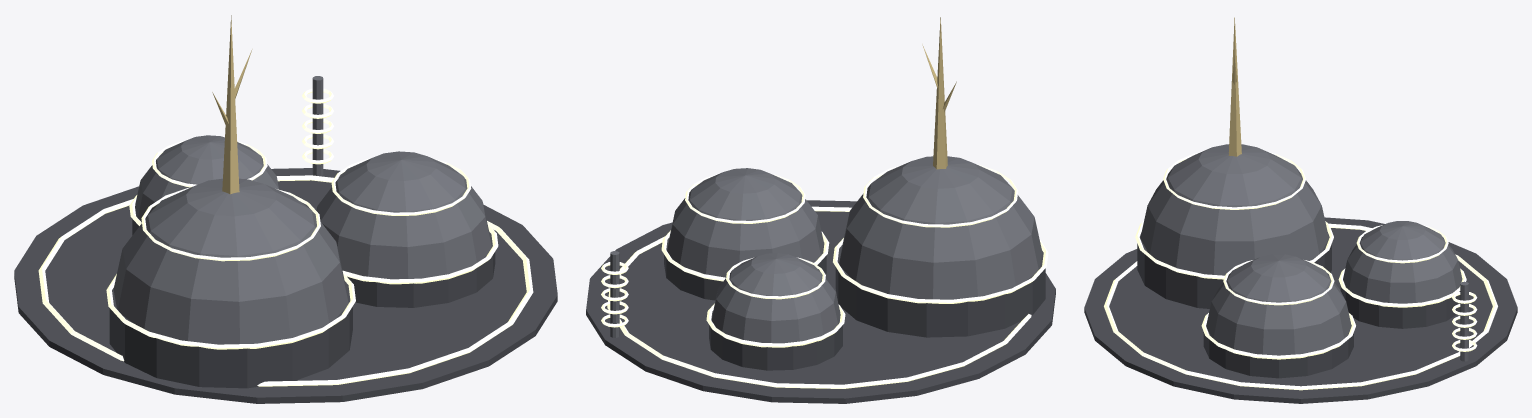
File: zone_low_3_t5.glb
3 renders of one model, left to right at view 1: azimuth 30°, elevation 25°; view 2: azimuth 150°, elevation 25°; view 3: azimuth 270°, elevation 25°, orthographic. The views are drawn at different scales.
Visible parts, largest first — view 1: zone_low_3_t5, detail; view 2: zone_low_3_t5, detail; view 3: zone_low_3_t5, detail.
Part boxes in pixels (<box>): zone_low_3_t5: <box>14,15,557,403</box>; detail: <box>38,49,533,386</box>; zone_low_3_t5: <box>586,17,1055,403</box>; detail: <box>601,44,1031,388</box>; zone_low_3_t5: <box>1084,17,1517,403</box>; detail: <box>1104,55,1497,390</box>.
Bounding box in the file's own units: 19.6 × 13.03 × 19.6.
